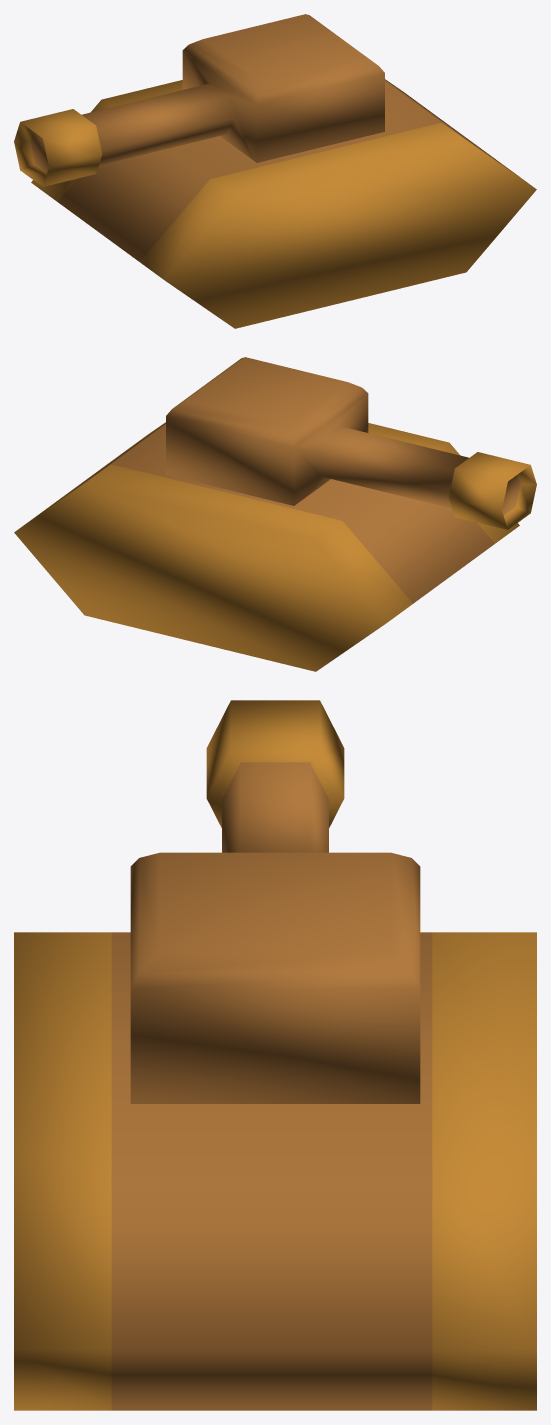
Rendered from BaseEnemyTank.fbx.
3 views of the same model, one above another, from view 1: azimuth 30°, elevation 25°; view 2: azimuth 150°, elevation 25°; view 3: azimuth 270°, elevation 25° (orthographic). The views are drawn at different scales.
Visible parts, largest first — view 1: Cube.001, Cube.002; view 2: Cube.001, Cube.002; view 3: Cube.001, Cube.002.
Boxes of the visible parts, x1,y1,x2,y2 form: Cube.001: (31,79,536,328); Cube.002: (14,14,384,186); Cube.001: (14,422,519,671); Cube.002: (166,357,536,529); Cube.001: (14,932,536,1410); Cube.002: (130,700,420,1103).
Size of the model in its own units: 616 by 273 by 325.
